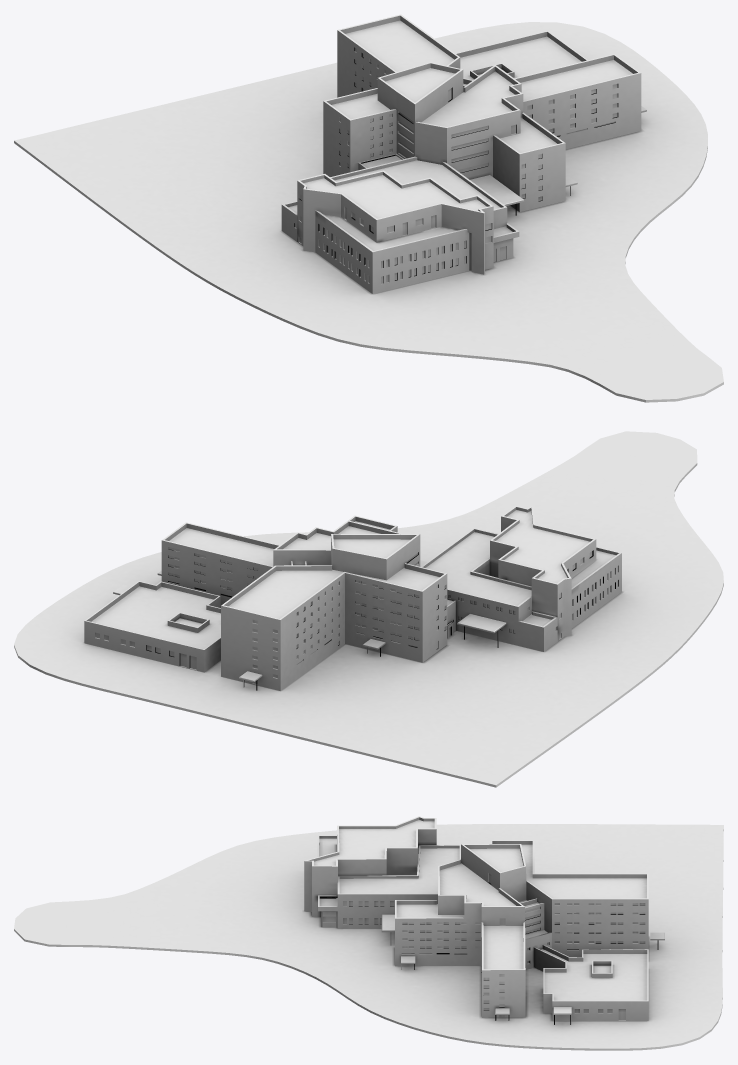
Rendered from kavala_building24.glb.
The picture shows the model from 3 angles, top to bottom: view 1: azimuth 30°, elevation 25°; view 2: azimuth 150°, elevation 25°; view 3: azimuth 270°, elevation 25°; orthographic projection. The views are drawn at different scales.
Visible parts, largest first — view 1: building02; view 2: building02; view 3: building02.
Part boxes in pixels (x1,y1,x2,y2): building02: (14, 14, 723, 402); building02: (14, 431, 723, 787); building02: (14, 816, 723, 1050).
Size of the model in its own units: 12.13 by 2 by 16.19.
Materials: 1 (1 with a texture image).
